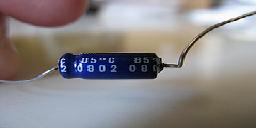Electrolytic-Capacitor: (42, 46, 186, 82)
